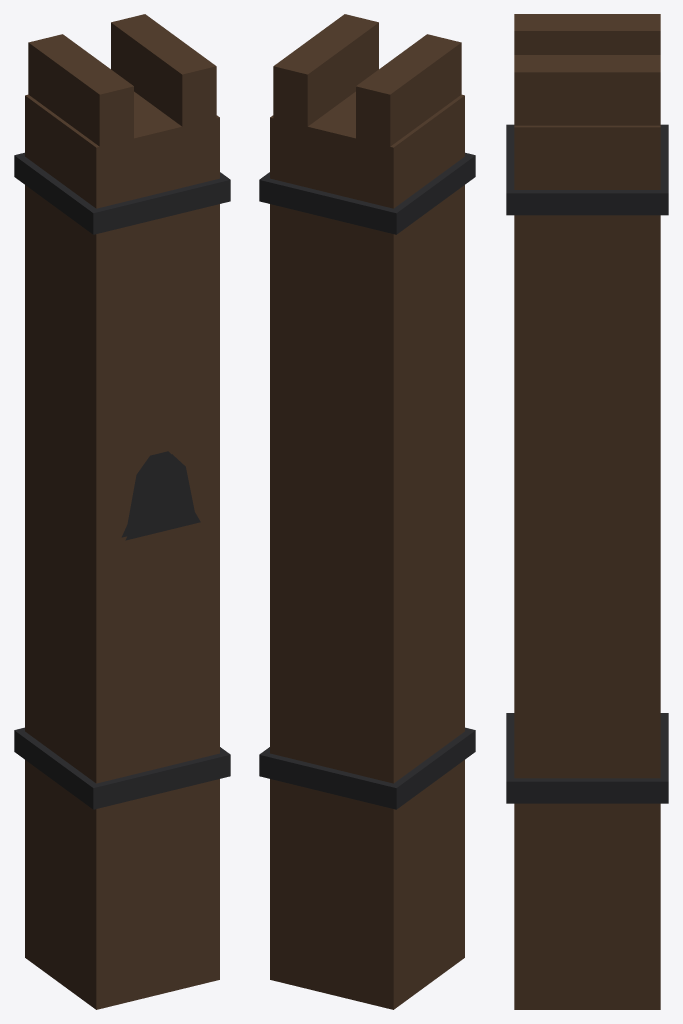
File: palisade_corner.glb
3 renders of one model, left to right at view 1: azimuth 30°, elevation 25°; view 2: azimuth 150°, elevation 25°; view 3: azimuth 270°, elevation 25°, orthographic. The views are drawn at different scales.
Parts seen in each view (by area): view 1: Section; view 2: Section; view 3: Section.
Part boxes in pixels (bbox=[...]): Section: bbox=[14, 14, 230, 1009]; Section: bbox=[259, 14, 475, 1009]; Section: bbox=[506, 14, 668, 1009].
Size of the model in its own units: 0.4 by 2.55 by 0.405.
